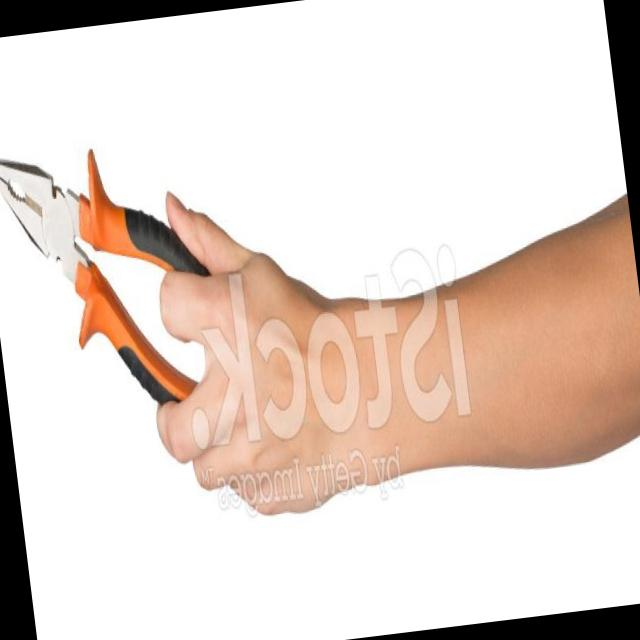pliers: (0, 149, 207, 400)
